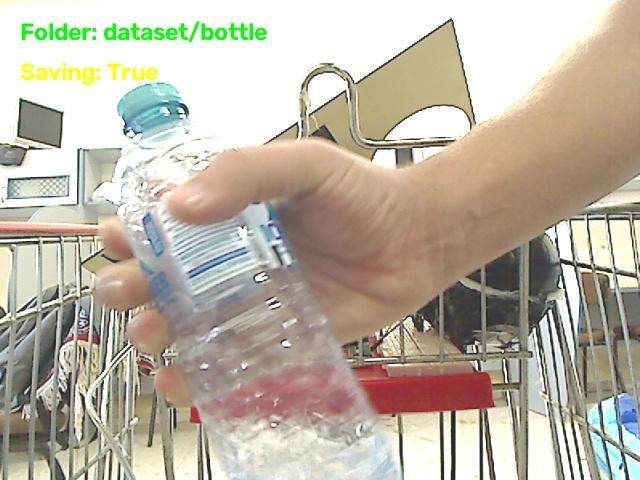Bottle: (114, 83, 398, 479)
can: (168, 142, 364, 227)
